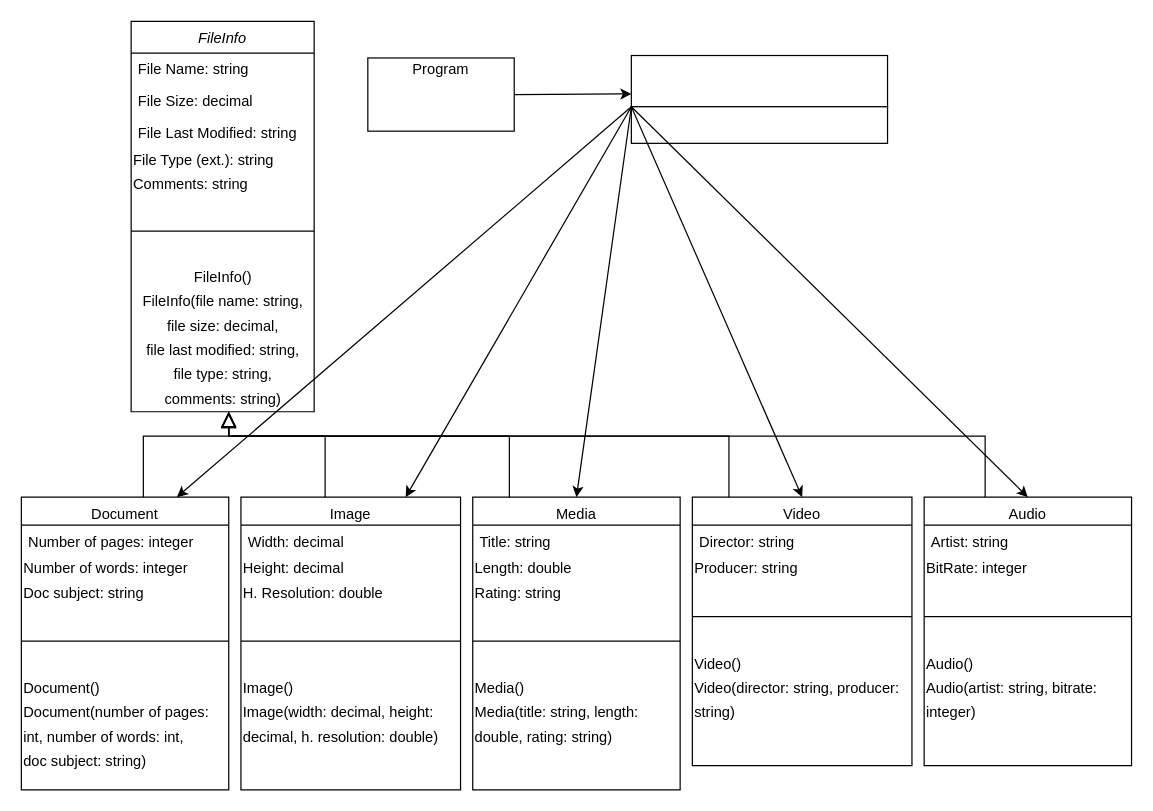
Some shapes in this 1153 by 811 pixel diagram are drawn without their labels. Each missing label, with the centre of its shape:
"Files: List<File>" goes at (759,124).
"Form1" goes at (759,80).
